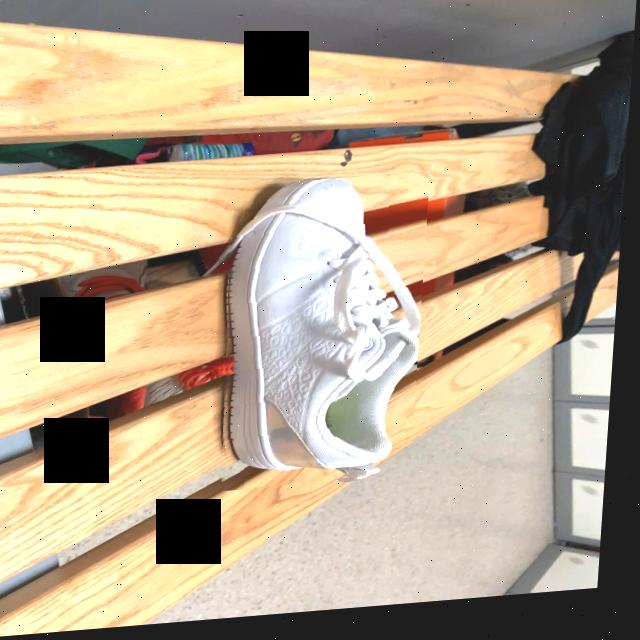shoe: (232, 185, 425, 485)
